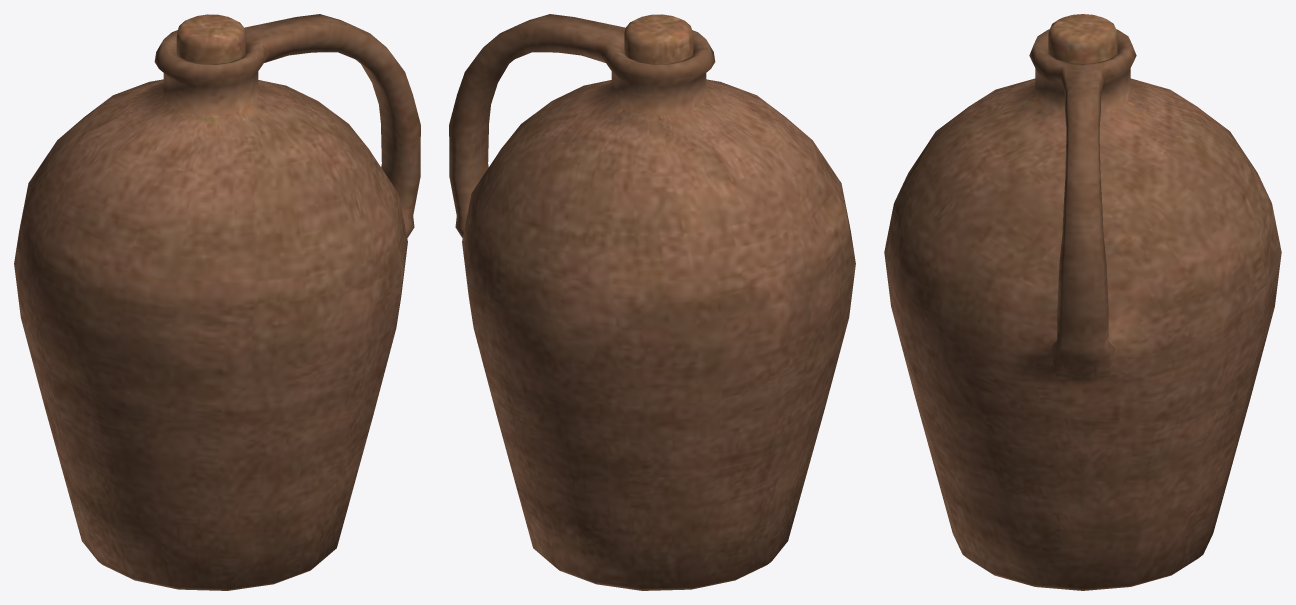
File: jug.gltf
The picture shows the model from 3 angles, left to right: view 1: azimuth 30°, elevation 25°; view 2: azimuth 150°, elevation 25°; view 3: azimuth 270°, elevation 25°; orthographic projection.
Parts seen in each view (by area): view 1: Pottery_6; view 2: Pottery_6; view 3: Pottery_6.
Part boxes in pixels (box(x1,y1,x2,y2)): Pottery_6: box(14, 14, 420, 590); Pottery_6: box(449, 14, 855, 590); Pottery_6: box(884, 14, 1281, 590).
Bounding box in the file's own units: 0.4079 × 0.5313 × 0.3734.
1 material, 1 textured.
